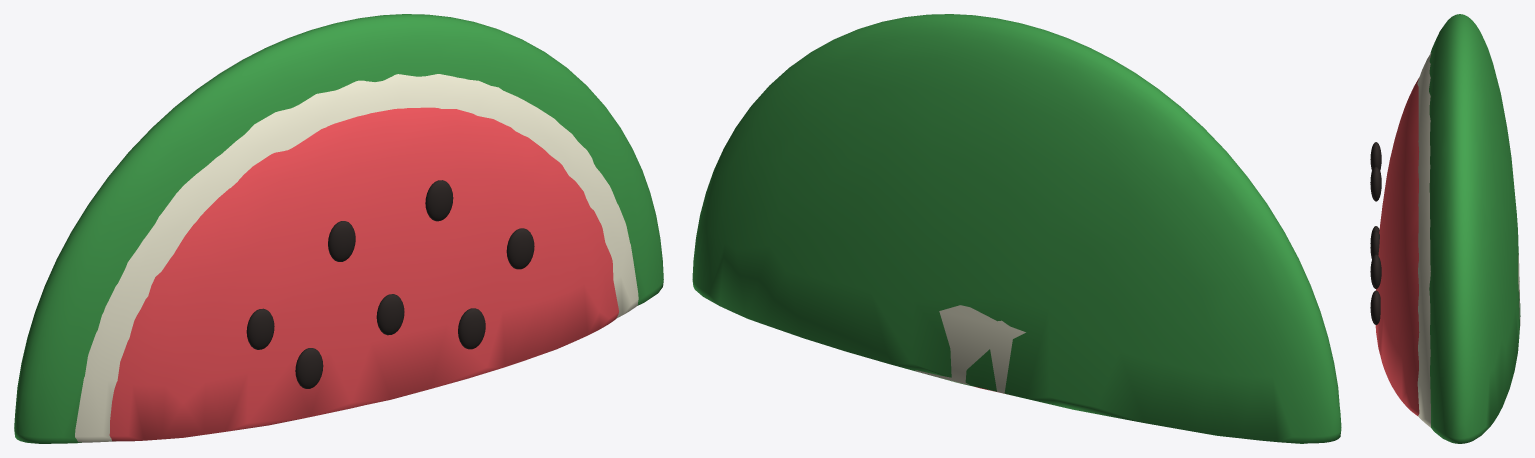
The model's file is comida_sandia.glb.
3 renders of one model, left to right at view 1: azimuth 30°, elevation 25°; view 2: azimuth 150°, elevation 25°; view 3: azimuth 270°, elevation 25°, orthographic. The views are drawn at different scales.
Parts seen in each view (by area): view 1: tajada sandía.001, corteza sandía.001, blanco sandía.001, pepa 3.001, pepa 4.001, pepa 6.001, pepa 2.001, pepa 1.001, pepa 0.001, pepa 5.001; view 2: corteza sandía.001, blanco sandía.001; view 3: corteza sandía.001, tajada sandía.001, blanco sandía.001, pepa 2.001, pepa 3.001, pepa 6.001, pepa 1.001, pepa 4.001.
Part boxes in pixels (box(x1,y1,x2,y2)): tajada sandía.001: box(109, 107, 618, 441); corteza sandía.001: box(14, 14, 663, 443); blanco sandía.001: box(75, 74, 638, 442); pepa 3.001: box(506, 228, 534, 269); pepa 4.001: box(376, 294, 404, 335); pepa 6.001: box(458, 308, 485, 349); pepa 2.001: box(425, 180, 453, 221); pepa 1.001: box(328, 221, 355, 261); pepa 0.001: box(246, 308, 274, 349); pepa 5.001: box(295, 348, 323, 388); corteza sandía.001: box(692, 14, 1341, 443); blanco sandía.001: box(915, 305, 1025, 393); corteza sandía.001: box(1429, 14, 1520, 443); tajada sandía.001: box(1375, 77, 1419, 415); blanco sandía.001: box(1417, 53, 1520, 427); pepa 2.001: box(1370, 167, 1381, 201); pepa 3.001: box(1370, 254, 1381, 288); pepa 6.001: box(1370, 290, 1380, 324); pepa 1.001: box(1370, 142, 1381, 171); pepa 4.001: box(1370, 230, 1379, 258).
Size of the model in its own units: 0.3973 by 0.1987 by 0.0983.
